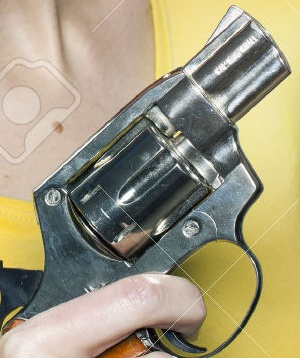pistol: (9, 3, 296, 358)
